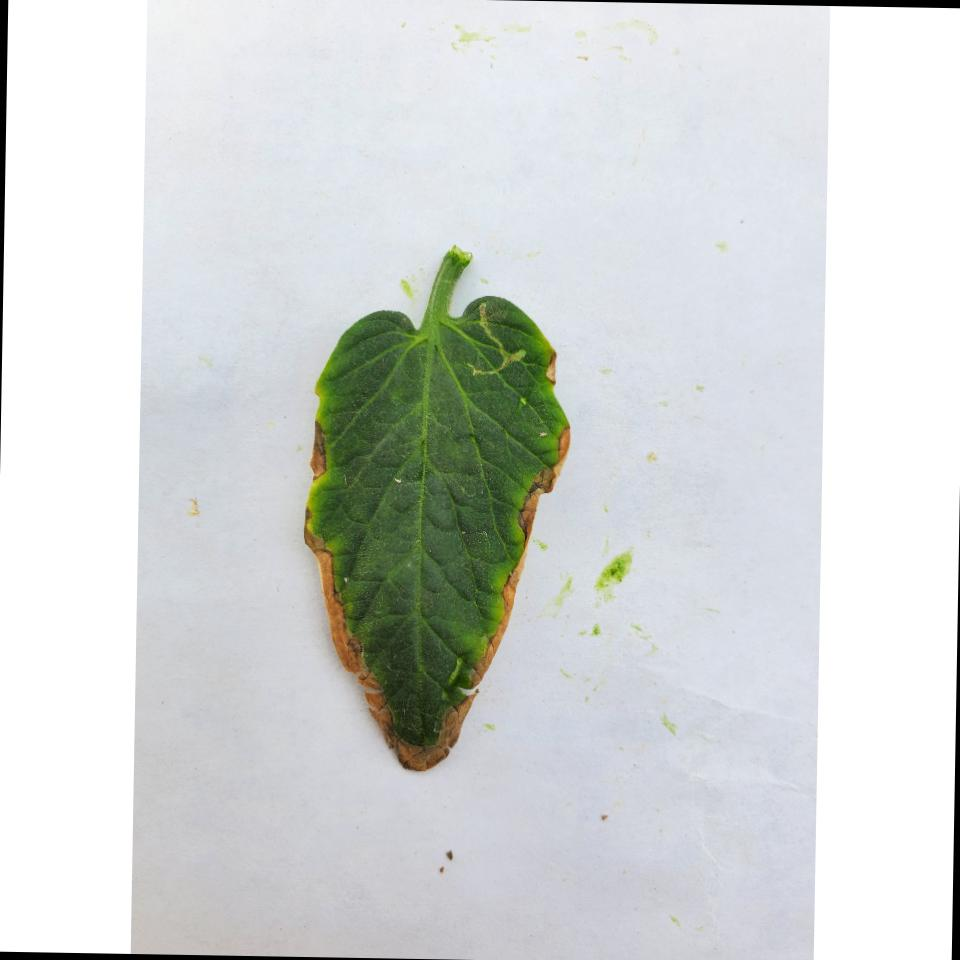tomato_bacterial_blight: (289, 239, 578, 778)
